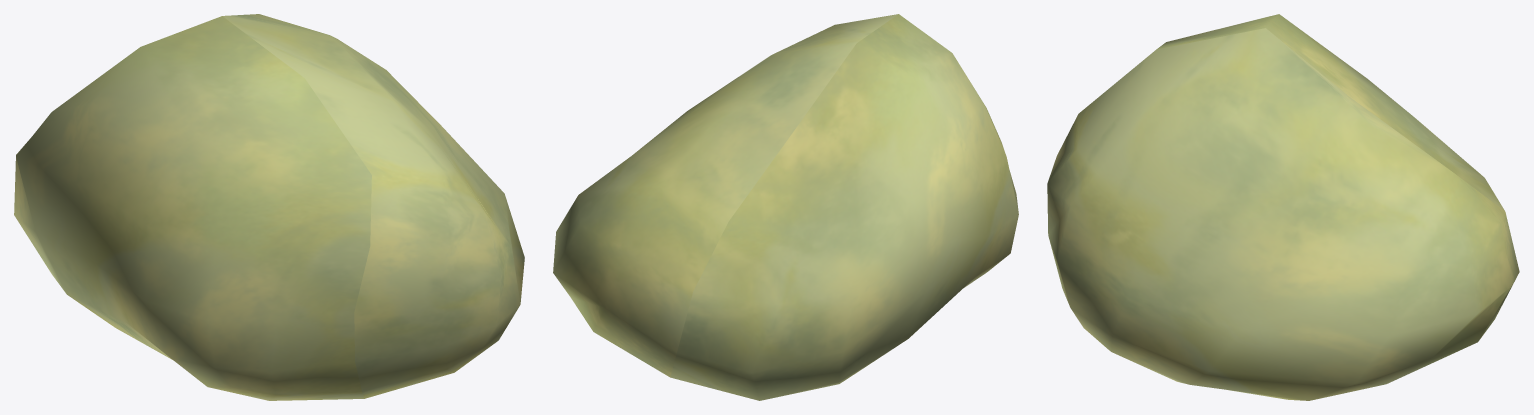
Rendered from m_bush_03.fbx.
The picture shows the model from 3 angles, left to right: view 1: azimuth 30°, elevation 25°; view 2: azimuth 150°, elevation 25°; view 3: azimuth 270°, elevation 25°; orthographic projection. The views are drawn at different scales.
Parts seen in each view (by area): view 1: m_bush_03; view 2: m_bush_03; view 3: m_bush_03.
Part boxes in pixels (box(x1,y1,x2,y2)): m_bush_03: box(14, 14, 524, 400); m_bush_03: box(553, 14, 1018, 400); m_bush_03: box(1047, 14, 1519, 400).
Bounding box in the file's own units: 155 × 123 × 180.
